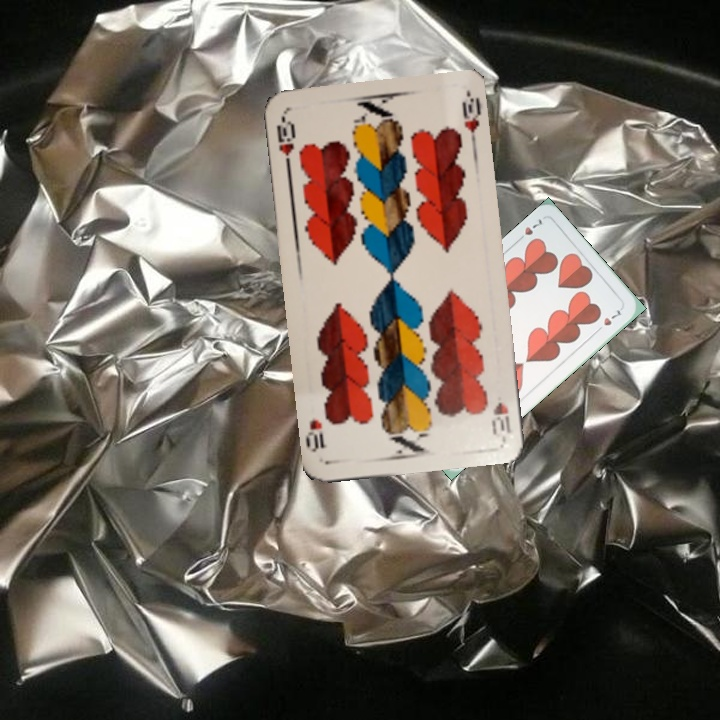H10: (272, 112, 298, 172), (489, 398, 513, 437)
H7: (512, 214, 546, 245)
